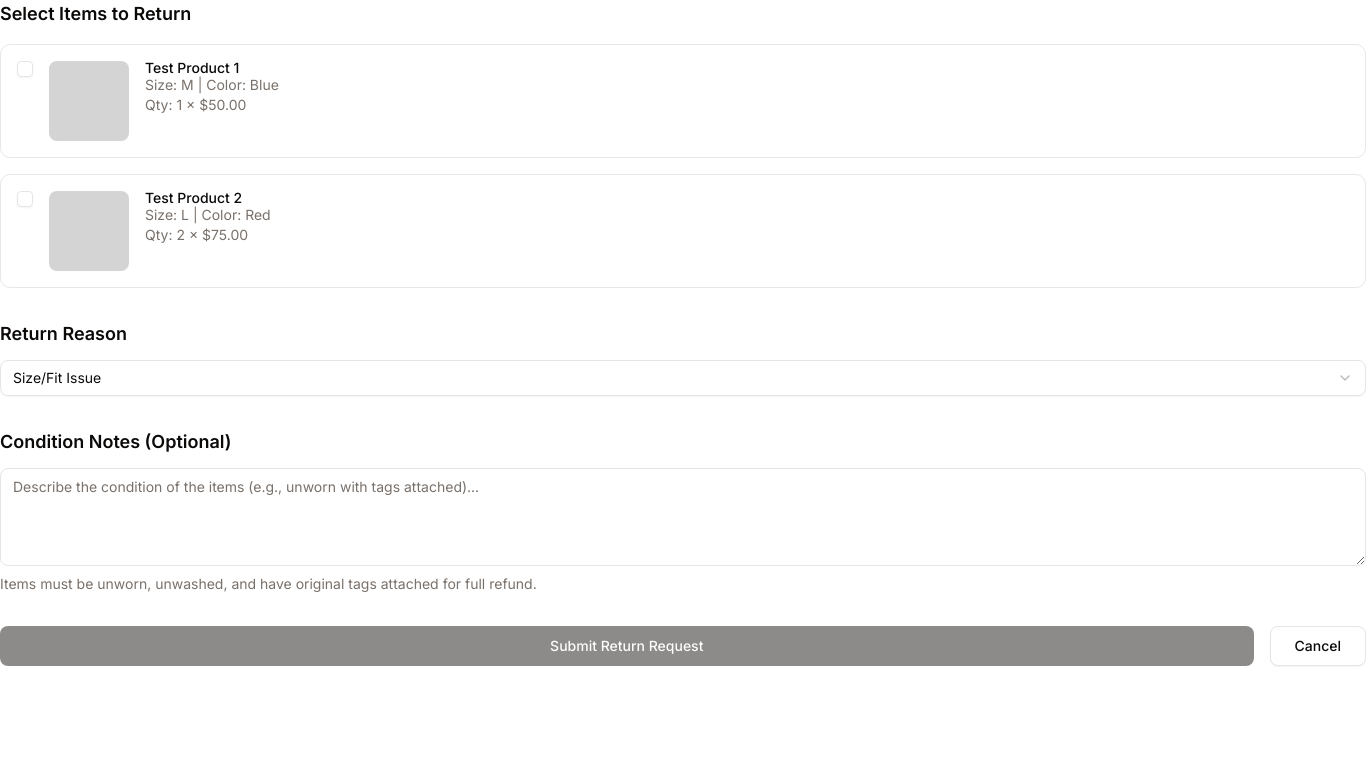
it: ReturnRequestForm › shows refund summary when items are selected
Expected: the text "Refund Summary" is not shown
// Select an item
What coordinates should you click on to do the following:
click the checkbox next to "Test Product 1"
I would click on:
 (25, 69)
Its box is [17, 61, 33, 77].
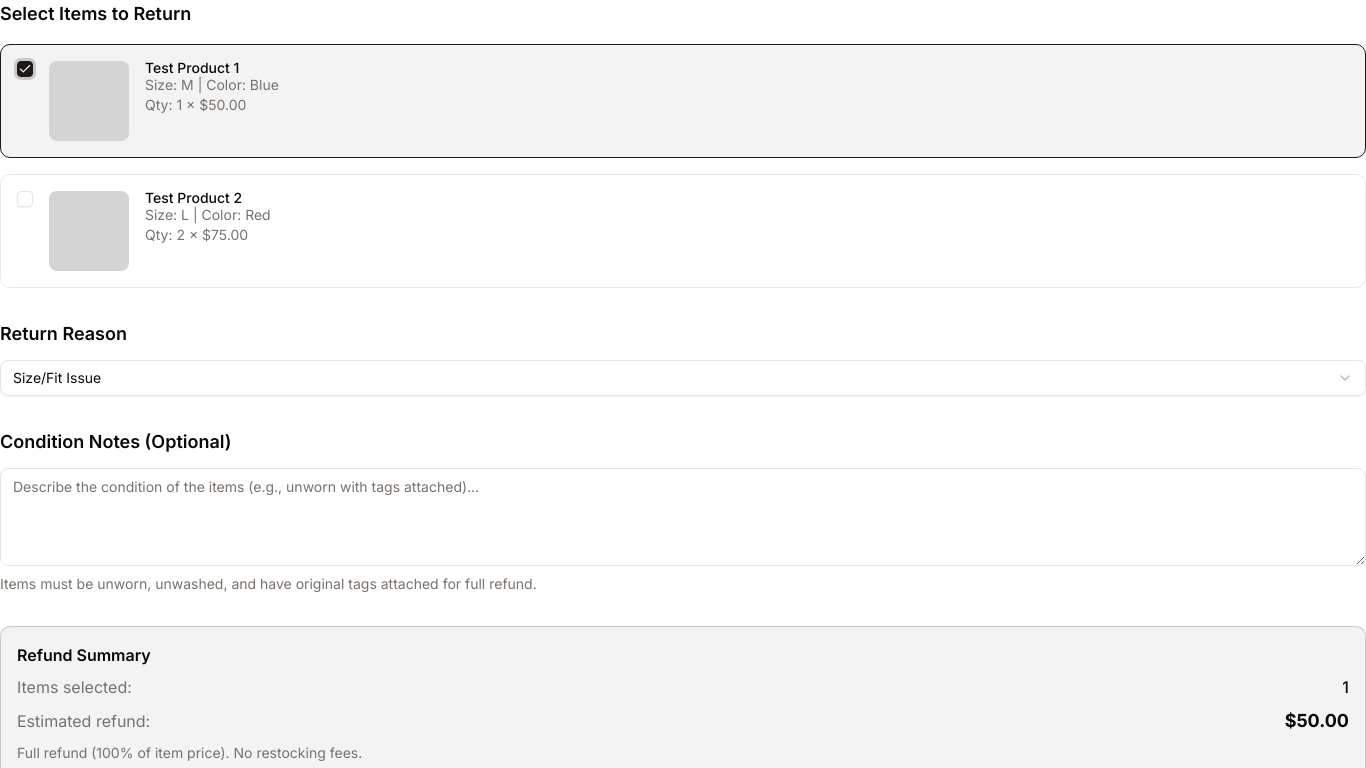
Expected: the heading "Refund Summary" is shown, [17, 645, 151, 665]
Expected: the text "Items selected:" is shown, [17, 675, 132, 699]
Expected: the text "1" is shown, [1342, 675, 1349, 699]
